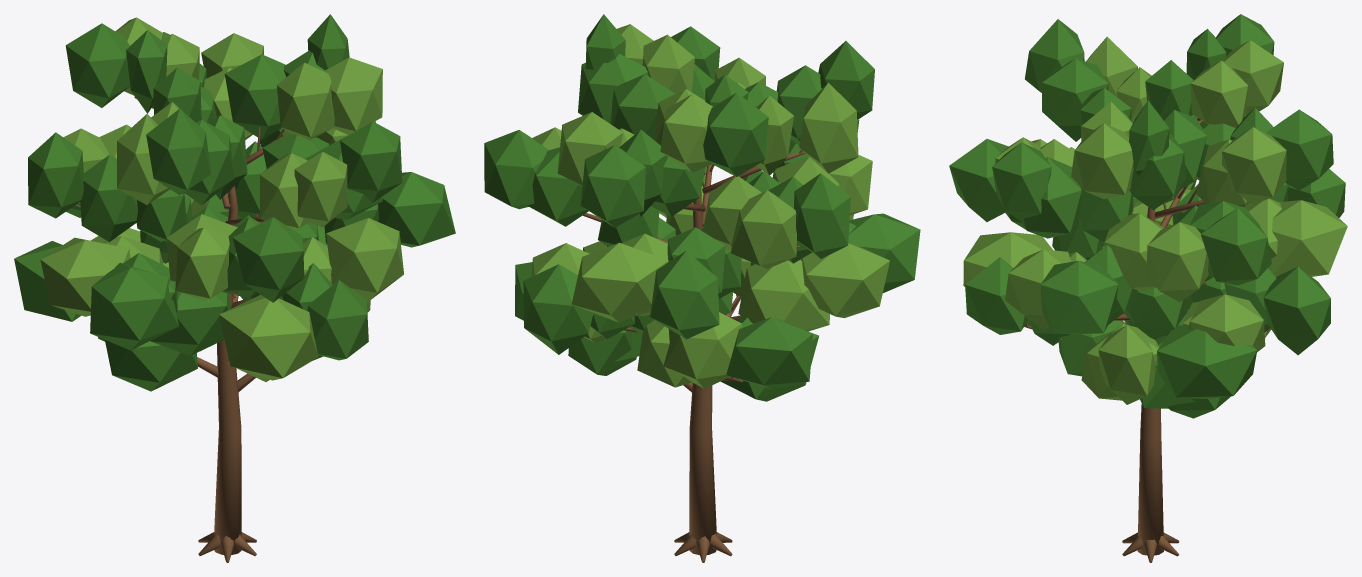
Rendered from tree-maple.glb.
The picture shows the model from 3 angles, left to right: view 1: azimuth 30°, elevation 25°; view 2: azimuth 150°, elevation 25°; view 3: azimuth 270°, elevation 25°; orthographic projection. The views are drawn at different scales.
Visible parts, largest first — view 1: Simplified foliage crown, Simplified foliage crown.001, Root flare; view 2: Simplified foliage crown, Simplified foliage crown.001, Root flare; view 3: Simplified foliage crown, Simplified foliage crown.001, Root flare.
Part boxes in pixels (box(x1,y1,x2,y2)): Simplified foliage crown: box(14, 14, 455, 391); Simplified foliage crown.001: box(40, 17, 403, 381); Root flare: box(77, 127, 289, 562); Simplified foliage crown: box(484, 14, 920, 401); Simplified foliage crown.001: box(531, 24, 889, 388); Root flare: box(583, 150, 805, 562); Simplified foliage crown: box(949, 14, 1345, 418); Simplified foliage crown.001: box(963, 36, 1347, 404); Root flare: box(1024, 117, 1270, 562).
Size of the model in its own units: 6.93 by 9.5 by 6.89.
